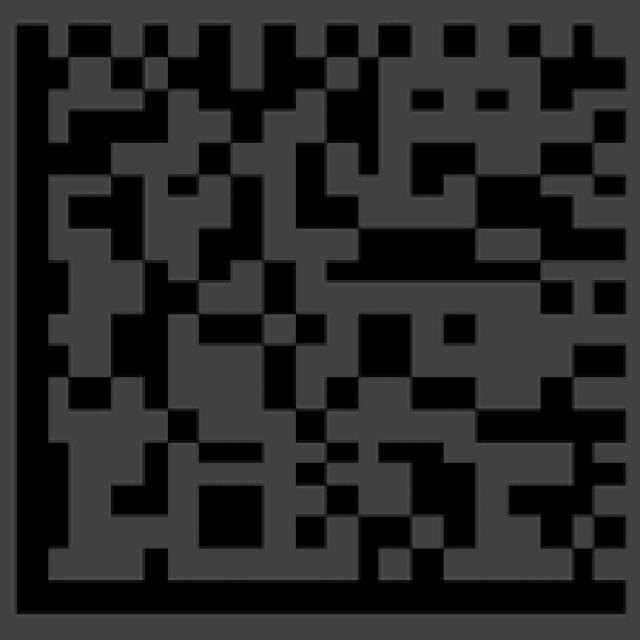Data-Matrix: (9, 15, 637, 632)
